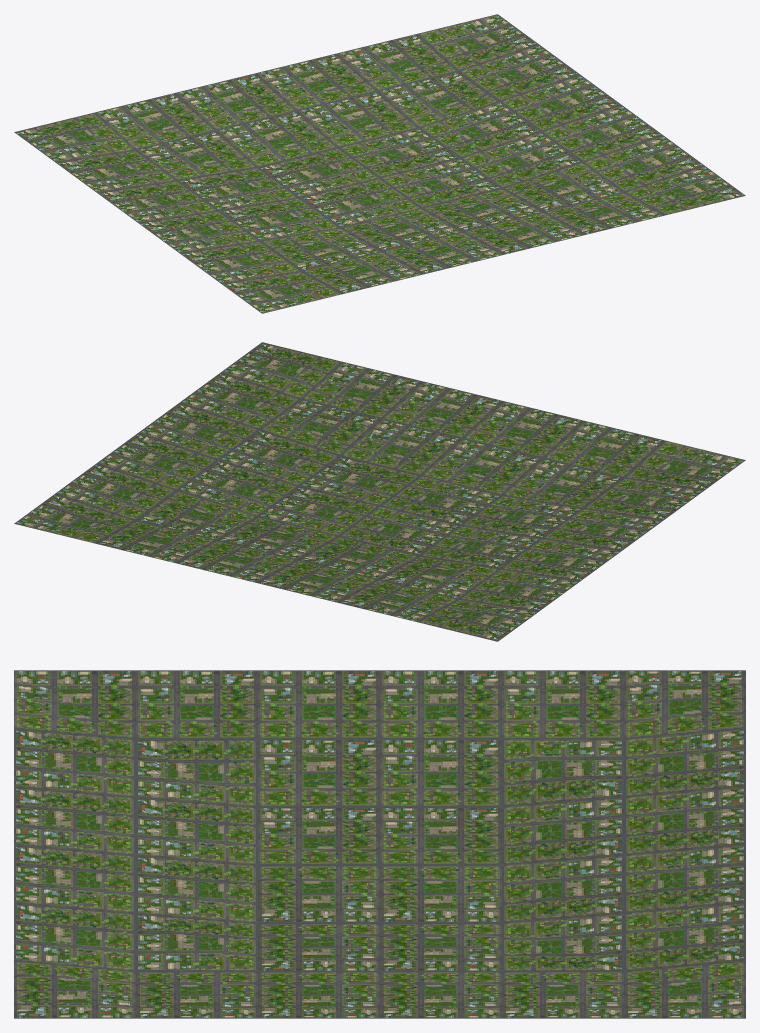
The model's file is BLOCK_HOODFAR.glb.
3 views of the same model, one above another, from view 1: azimuth 30°, elevation 25°; view 2: azimuth 150°, elevation 25°; view 3: azimuth 270°, elevation 25° (orthographic). The views are drawn at different scales.
Visible parts, largest first — view 1: BLOCK_HOODFAR; view 2: BLOCK_HOODFAR; view 3: BLOCK_HOODFAR.
Boxes of the visible parts, x1,y1,x2,y2 form: BLOCK_HOODFAR: (14,14,745,313); BLOCK_HOODFAR: (14,342,745,641); BLOCK_HOODFAR: (14,670,745,1018).
Size of the model in its own units: 85550 by 2352 by 76010.
1 material, 1 textured.
